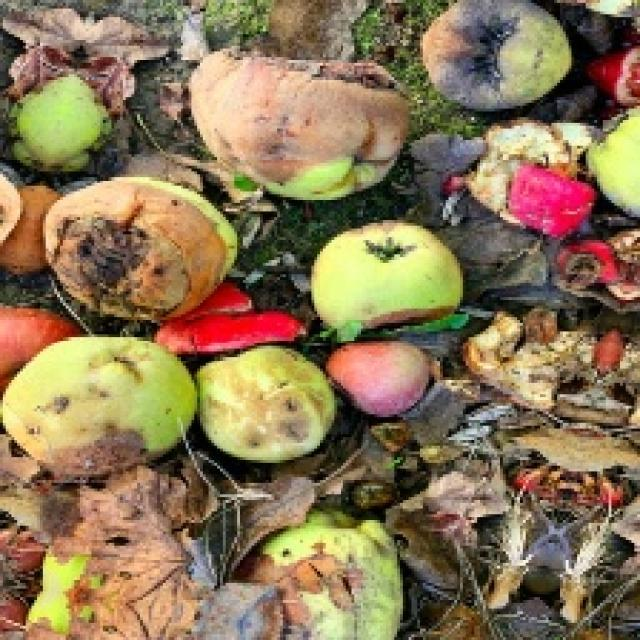rotten_apple: (194, 54, 402, 197), (49, 178, 231, 320), (7, 339, 190, 464), (272, 510, 401, 640), (315, 222, 460, 336), (202, 349, 332, 462), (422, 3, 566, 105), (466, 120, 569, 225)
